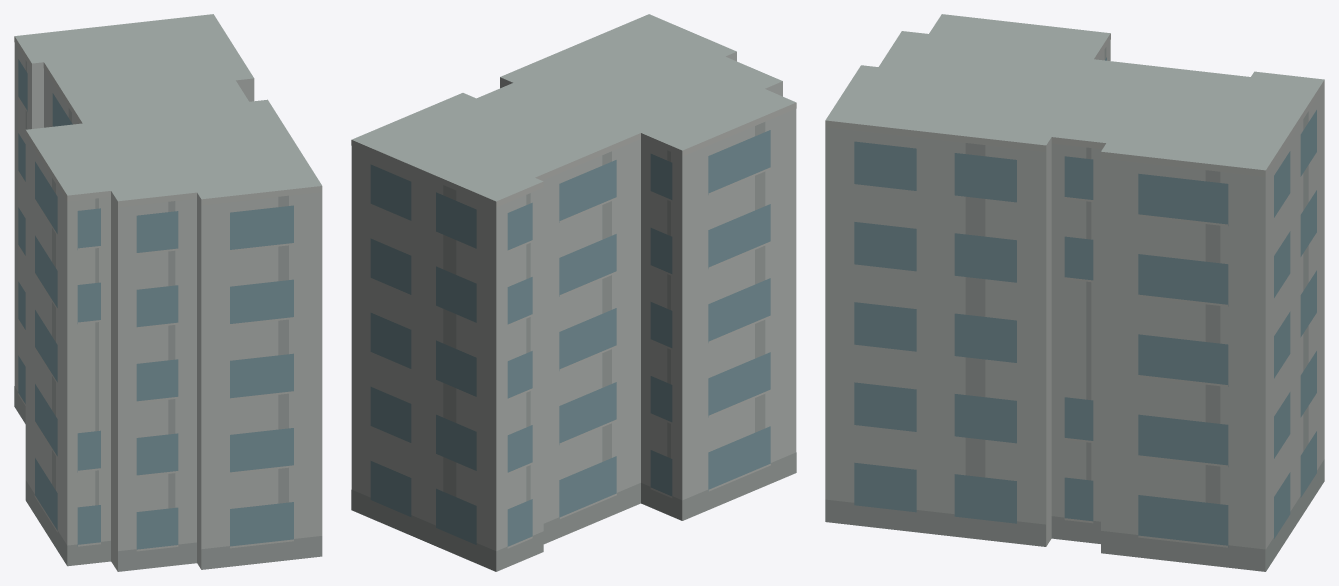
File: survey-upis-32633450.glb
3 renders of one model, left to right at view 1: azimuth 30°, elevation 25°; view 2: azimuth 150°, elevation 25°; view 3: azimuth 270°, elevation 25°, orthographic. The views are drawn at different scales.
Parts seen in each view (by area): view 1: survey-upis-32633450.tmp; view 2: survey-upis-32633450.tmp; view 3: survey-upis-32633450.tmp.
Part boxes in pixels (box(x1,y1,x2,y2)): survey-upis-32633450.tmp: box(14, 14, 322, 571); survey-upis-32633450.tmp: box(351, 14, 796, 571); survey-upis-32633450.tmp: box(825, 14, 1324, 571).
Size of the model in its own units: 12.45 by 14.9 by 16.8.
